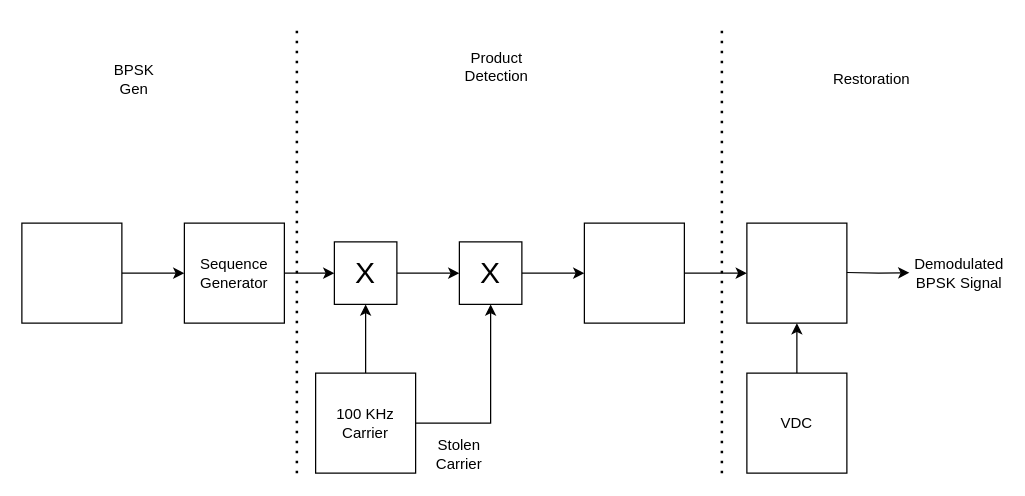
Some shapes in this 1025 by 496 pixel diagram are drawn without their labels. The shapes that lost their labels are listed below. From the top down, each one's centre as x and y in pixels, then its label:
At point (71, 272): "8 KHz CLK".
At point (633, 272): "LPF".
At point (796, 272): "Comparator".
